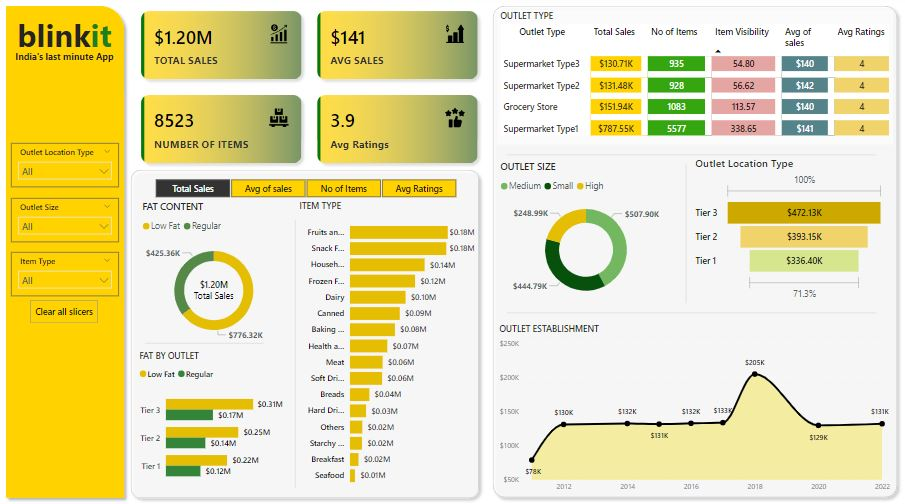

This screenshot's page, from the dashboard's own definition file:
{"tool":"powerbi","page":{"name":"Page 1","canvas":[1400,800],"ordinal":0},"visuals":[{"type":"shape","box":[0,25,200,775],"z":0},{"type":"textbox","box":[6.2,40.6,185.9,76.6],"z":1000},{"type":"textbox","box":[6.2,96.9,185.9,40.6],"z":2000},{"type":"cardVisual","fields":{"Data":["BlinkIT Grocery Data.Sum of total Sales","BlinkIT Grocery Data.Avg of sales","BlinkIT Grocery Data.Count of the rows","BlinkIT Grocery Data.Avg Ratings"]},"box":[200,24.2,553.2,269.4],"z":3000},{"type":"shape","box":[192.8,276.8,553.6,523.2],"z":4000},{"type":"donutChart","title":"FAT CONTENT","fields":{"Y":["BlinkIT Grocery Data.Total Sales"],"Category":["BlinkIT Grocery Data.Item Fat Content"]},"box":[213.3,331.7,230,230],"z":5000},{"type":"slicer","fields":{"Values":["matrics.Parameter"]},"box":[213.3,293.3,511.7,38.3],"z":6000},{"type":"cardVisual","fields":{"Data":["BlinkIT Grocery Data.Total Sales"]},"box":[278.3,436.2,101.4,55.1],"z":7000},{"type":"clusteredBarChart","title":"FAT BY OUTLET","fields":{"Y":["BlinkIT Grocery Data.Total Sales"],"Category":["BlinkIT Grocery Data.Outlet Location Type"],"Series":["BlinkIT Grocery Data.Item Fat Content"]},"box":[209.2,563.1,230.8,218.5],"z":8000},{"type":"shape","box":[223.2,537.7,182.6,31.9],"z":9000},{"type":"shape","box":[440.6,362.3,29,413],"z":10000},{"type":"barChart","title":"ITEM TYPE","fields":{"Y":["BlinkIT Grocery Data.Total Sales"],"Category":["BlinkIT Grocery Data.Item Type"]},"box":[455.1,331.9,279.7,449.3],"z":11000},{"type":"shape","box":[748.6,24.3,640,774.3],"z":12000},{"type":"lineChart","title":"OUTLET ESTABLISHMENT","fields":{"Y":["BlinkIT Grocery Data.Total Sales"],"Category":["BlinkIT Grocery Data.Outlet Establishment Year"]},"box":[763.8,521.3,611,269.3],"z":13000},{"type":"shape","box":[780,491.4,568.6,30],"z":14000},{"type":"donutChart","title":"OUTLET SIZE","fields":{"Y":["BlinkIT Grocery Data.Total Sales"],"Category":["BlinkIT Grocery Data.Outlet Size"]},"box":[764.6,270.8,273.8,227.7],"z":15000},{"type":"shape","box":[1038.6,277.1,34.3,214.3],"z":16000},{"type":"funnel","title":"Outlet Location Type","fields":{"Y":["BlinkIT Grocery Data.Total Sales"],"Category":["BlinkIT Grocery Data.Outlet Location Type"]},"box":[1064.6,264.6,300,227.7],"z":17000},{"type":"shape","box":[780,247.1,568.6,30],"z":18000},{"type":"pivotTable","title":"OUTLET TYPE","fields":{"Values":["BlinkIT Grocery Data.Total Sales","BlinkIT Grocery Data.No of Items","Sum(BlinkIT Grocery Data.Item Visibility)","BlinkIT Grocery Data.Avg of sales","BlinkIT Grocery Data.Avg Ratings"],"Rows":["BlinkIT Grocery Data.Outlet Type"]},"box":[764.3,40,608.6,207.1],"z":19000},{"type":"slicer","fields":{"Values":["BlinkIT Grocery Data.Outlet Location Type"]},"box":[16.9,244.6,166.2,67.7],"z":20000},{"type":"slicer","fields":{"Values":["BlinkIT Grocery Data.Outlet Size"]},"box":[16.9,329.2,166.2,67.7],"z":21000},{"type":"slicer","fields":{"Values":["BlinkIT Grocery Data.Item Type"]},"box":[16.9,412.3,166.2,67.7],"z":22000},{"type":"actionButton","title":"Reset Filters","box":[46.2,486.2,104.6,35.4],"z":22001}]}

Visuals, with their boxes in screenshot pixels (x1, y1, x2, y2), scaled from the page's 1400x800 canvas onto the 905x504 screenshot:
shape: 0/16/129/503
textbox: 4/26/124/74
textbox: 4/61/124/87
cardVisual - BlinkIT Grocery Data.Sum of total Sales x BlinkIT Grocery Data.Avg of sales: 129/15/487/185
shape: 125/174/482/503
"FAT CONTENT" donutChart: 138/209/287/354
slicer - matrics.Parameter: 138/185/469/209
cardVisual - BlinkIT Grocery Data.Total Sales: 180/275/245/310
"FAT BY OUTLET" clusteredBarChart: 135/355/284/492
shape: 144/339/262/359
shape: 285/228/304/488
"ITEM TYPE" barChart: 294/209/475/492
shape: 484/15/898/503
"OUTLET ESTABLISHMENT" lineChart: 494/328/889/498
shape: 504/310/872/328
"OUTLET SIZE" donutChart: 494/171/671/314
shape: 671/175/694/310
"Outlet Location Type" funnel: 688/167/882/310
shape: 504/156/872/175
"OUTLET TYPE" pivotTable: 494/25/887/156
slicer - BlinkIT Grocery Data.Outlet Location Type: 11/154/118/197
slicer - BlinkIT Grocery Data.Outlet Size: 11/207/118/250
slicer - BlinkIT Grocery Data.Item Type: 11/260/118/302
"Reset Filters" actionButton: 30/306/97/329
